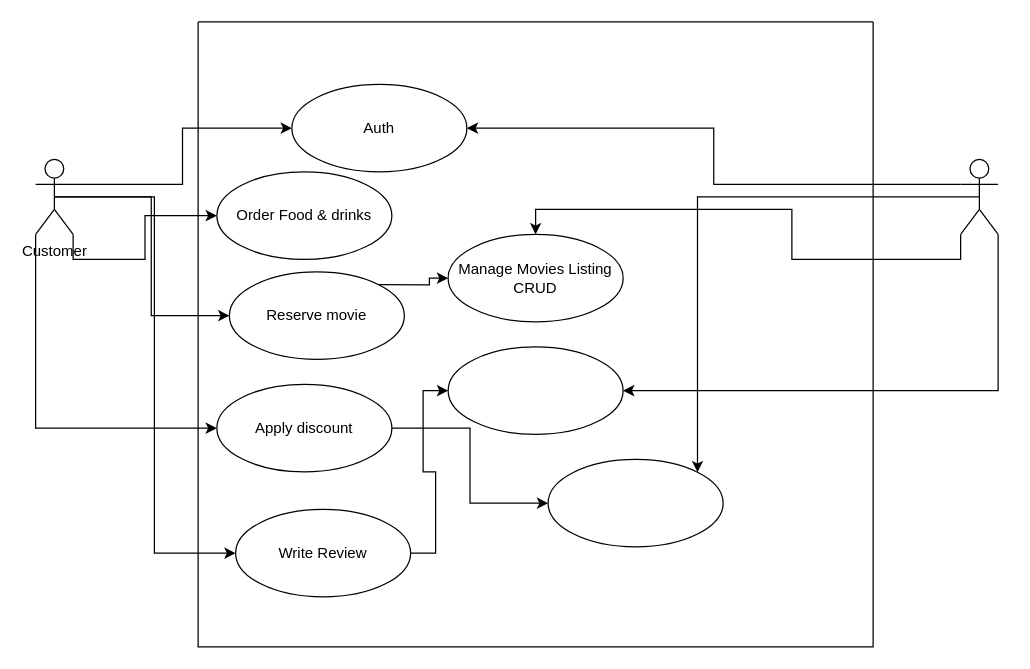
Some shapes in this 1030 by 669 pixel diagram are drawn without their labels. The centre of each missing label's shape, as x and y in pixels:
"Admin" goes at (x=978, y=196).
"Manage discount CRUD" goes at (x=635, y=502).
"Watch reviews" goes at (x=535, y=390).
